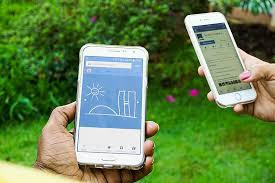Hand: (37, 101, 170, 183), (207, 48, 275, 122)
Smartphone: (80, 38, 144, 162), (186, 16, 256, 112)
